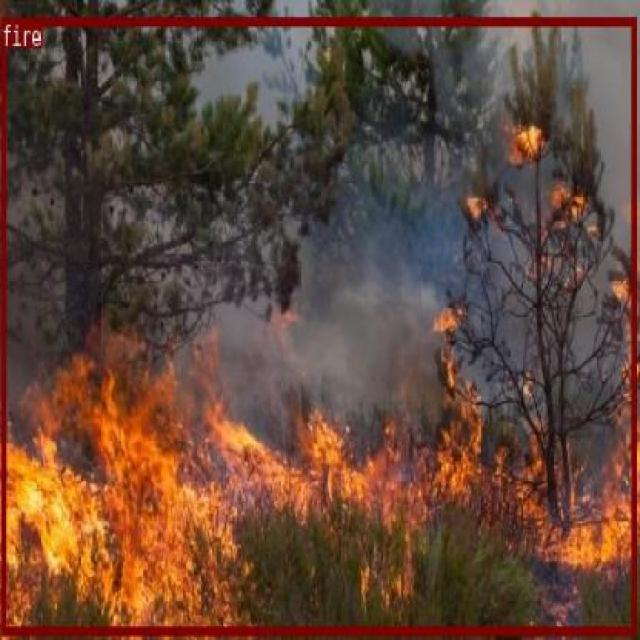Fire: (0, 15, 635, 632)
